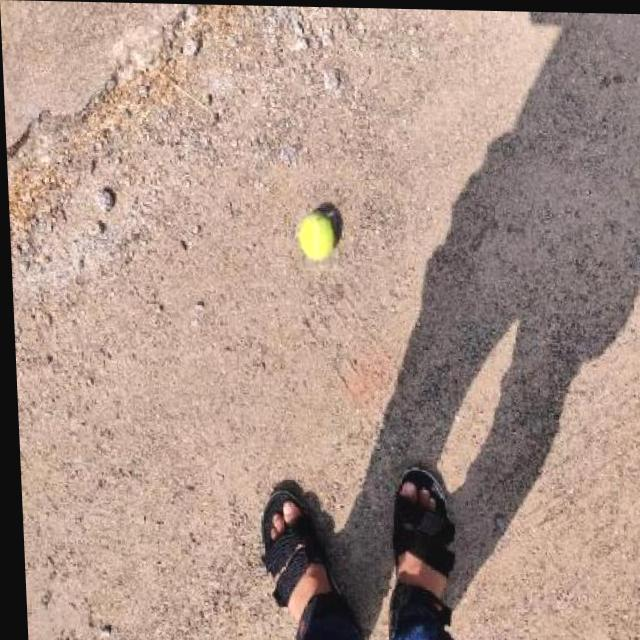-: (294, 209, 336, 270)
